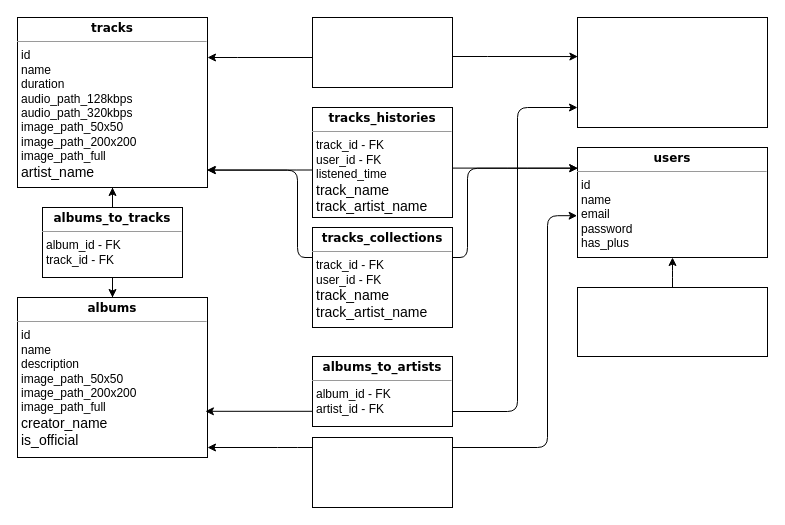
Image size: 785x525. Some labels were removed from this diagram. Each missing label, with the centre of its shape:
"albums_to_users album_id - FK user_id - FK" belongs at (382,472).
"artists id name likes image_path_200x200 image_path_full" belongs at (672,72).
"sessions user_id - FK token" belongs at (672,321).
"tracks_to_artists track_id - FK artist_id - FK" belongs at (382,52).
